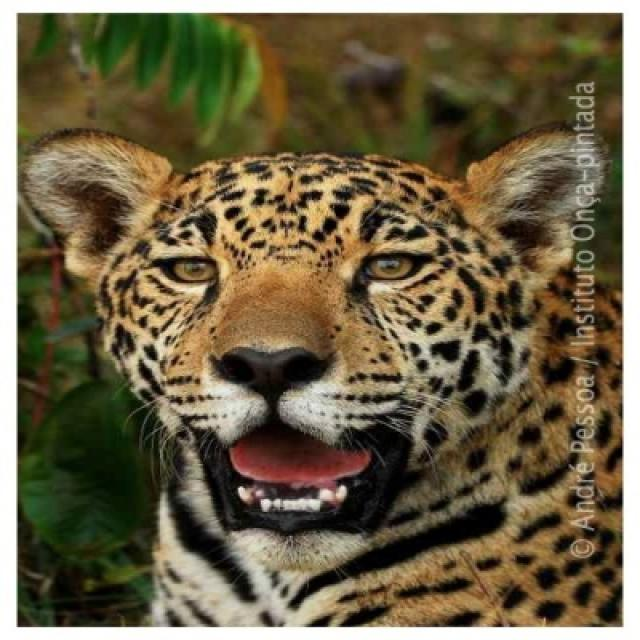Jaguar: (21, 122, 616, 627)
